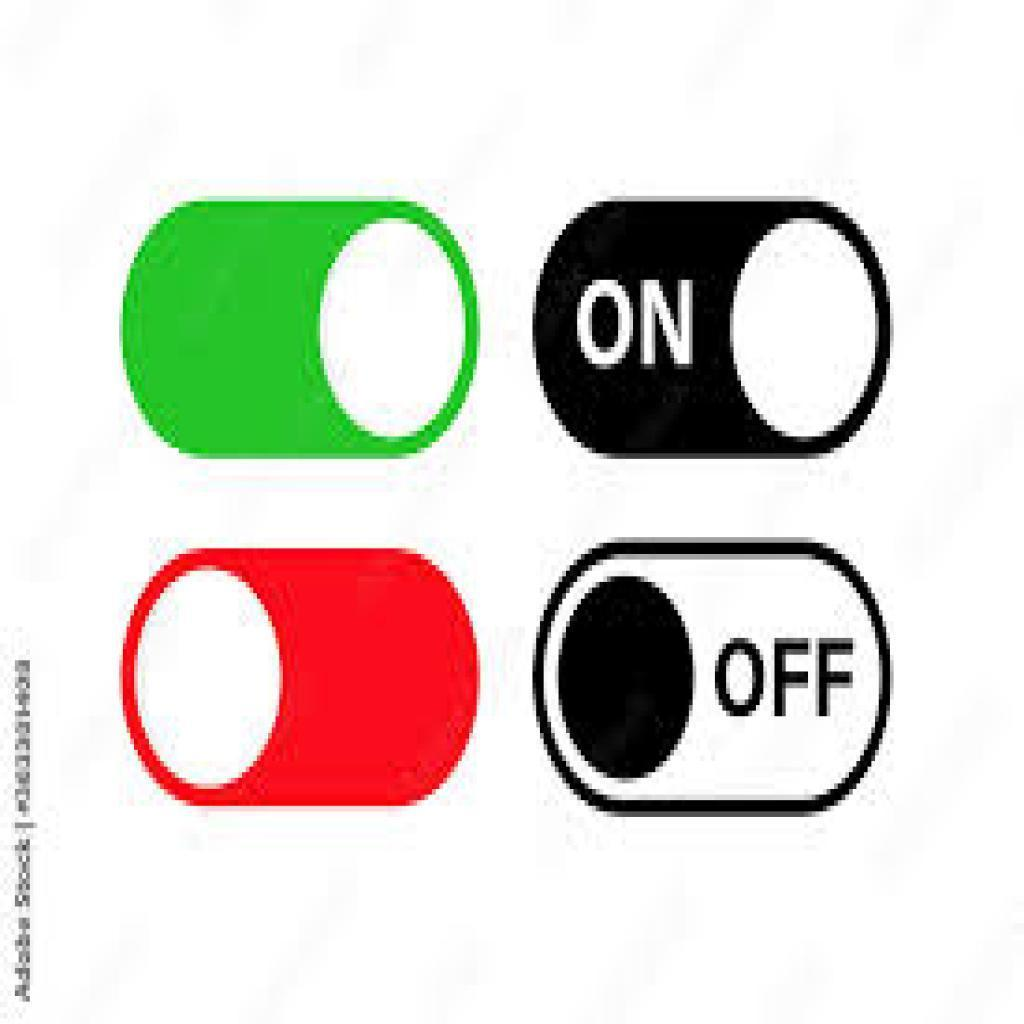switch: (529, 538, 903, 825), (109, 536, 484, 817), (535, 182, 901, 469), (114, 186, 484, 468)
